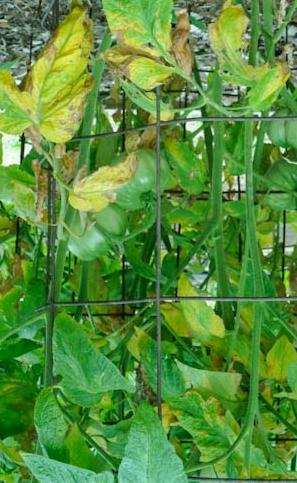Tomato Early blight leaf: (205, 0, 297, 109), (26, 11, 94, 146), (103, 0, 193, 88), (72, 138, 144, 216), (177, 274, 227, 338), (263, 335, 297, 386)
Tomato leaf: (52, 316, 121, 411), (120, 395, 186, 483), (23, 459, 113, 483)
